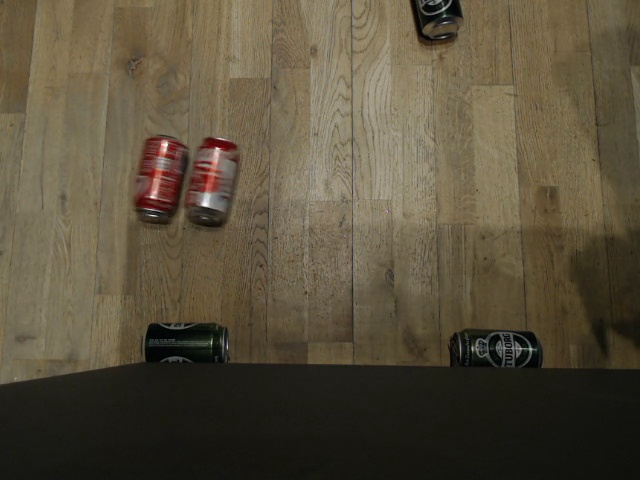beer: (138, 319, 233, 367), (450, 326, 545, 369), (410, 0, 465, 43)
cola: (183, 135, 242, 222), (131, 133, 189, 220)
